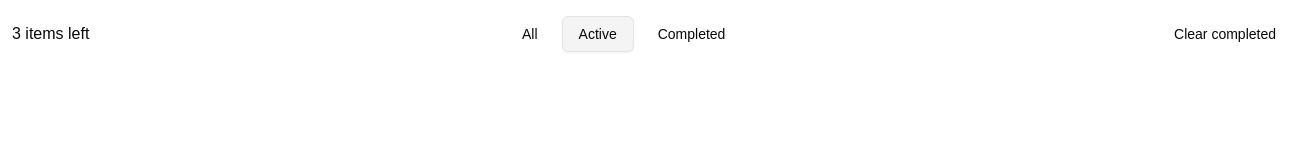
Test: Control component › shows correct count of active todos
What coordinates should you click on to do the following:
click the button "Active"
I would click on:
 (598, 34)
Its box is [562,16,634,52].
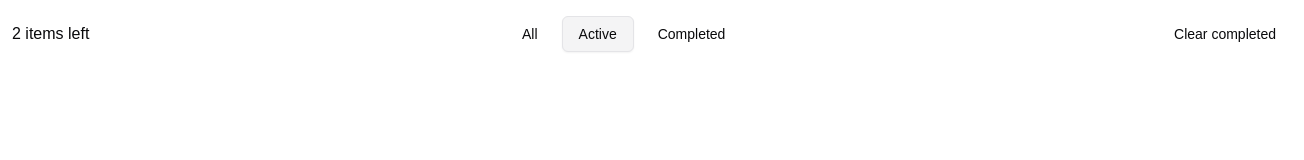
Check: the text "2 items left" is shown, box [12,22,89,46]
